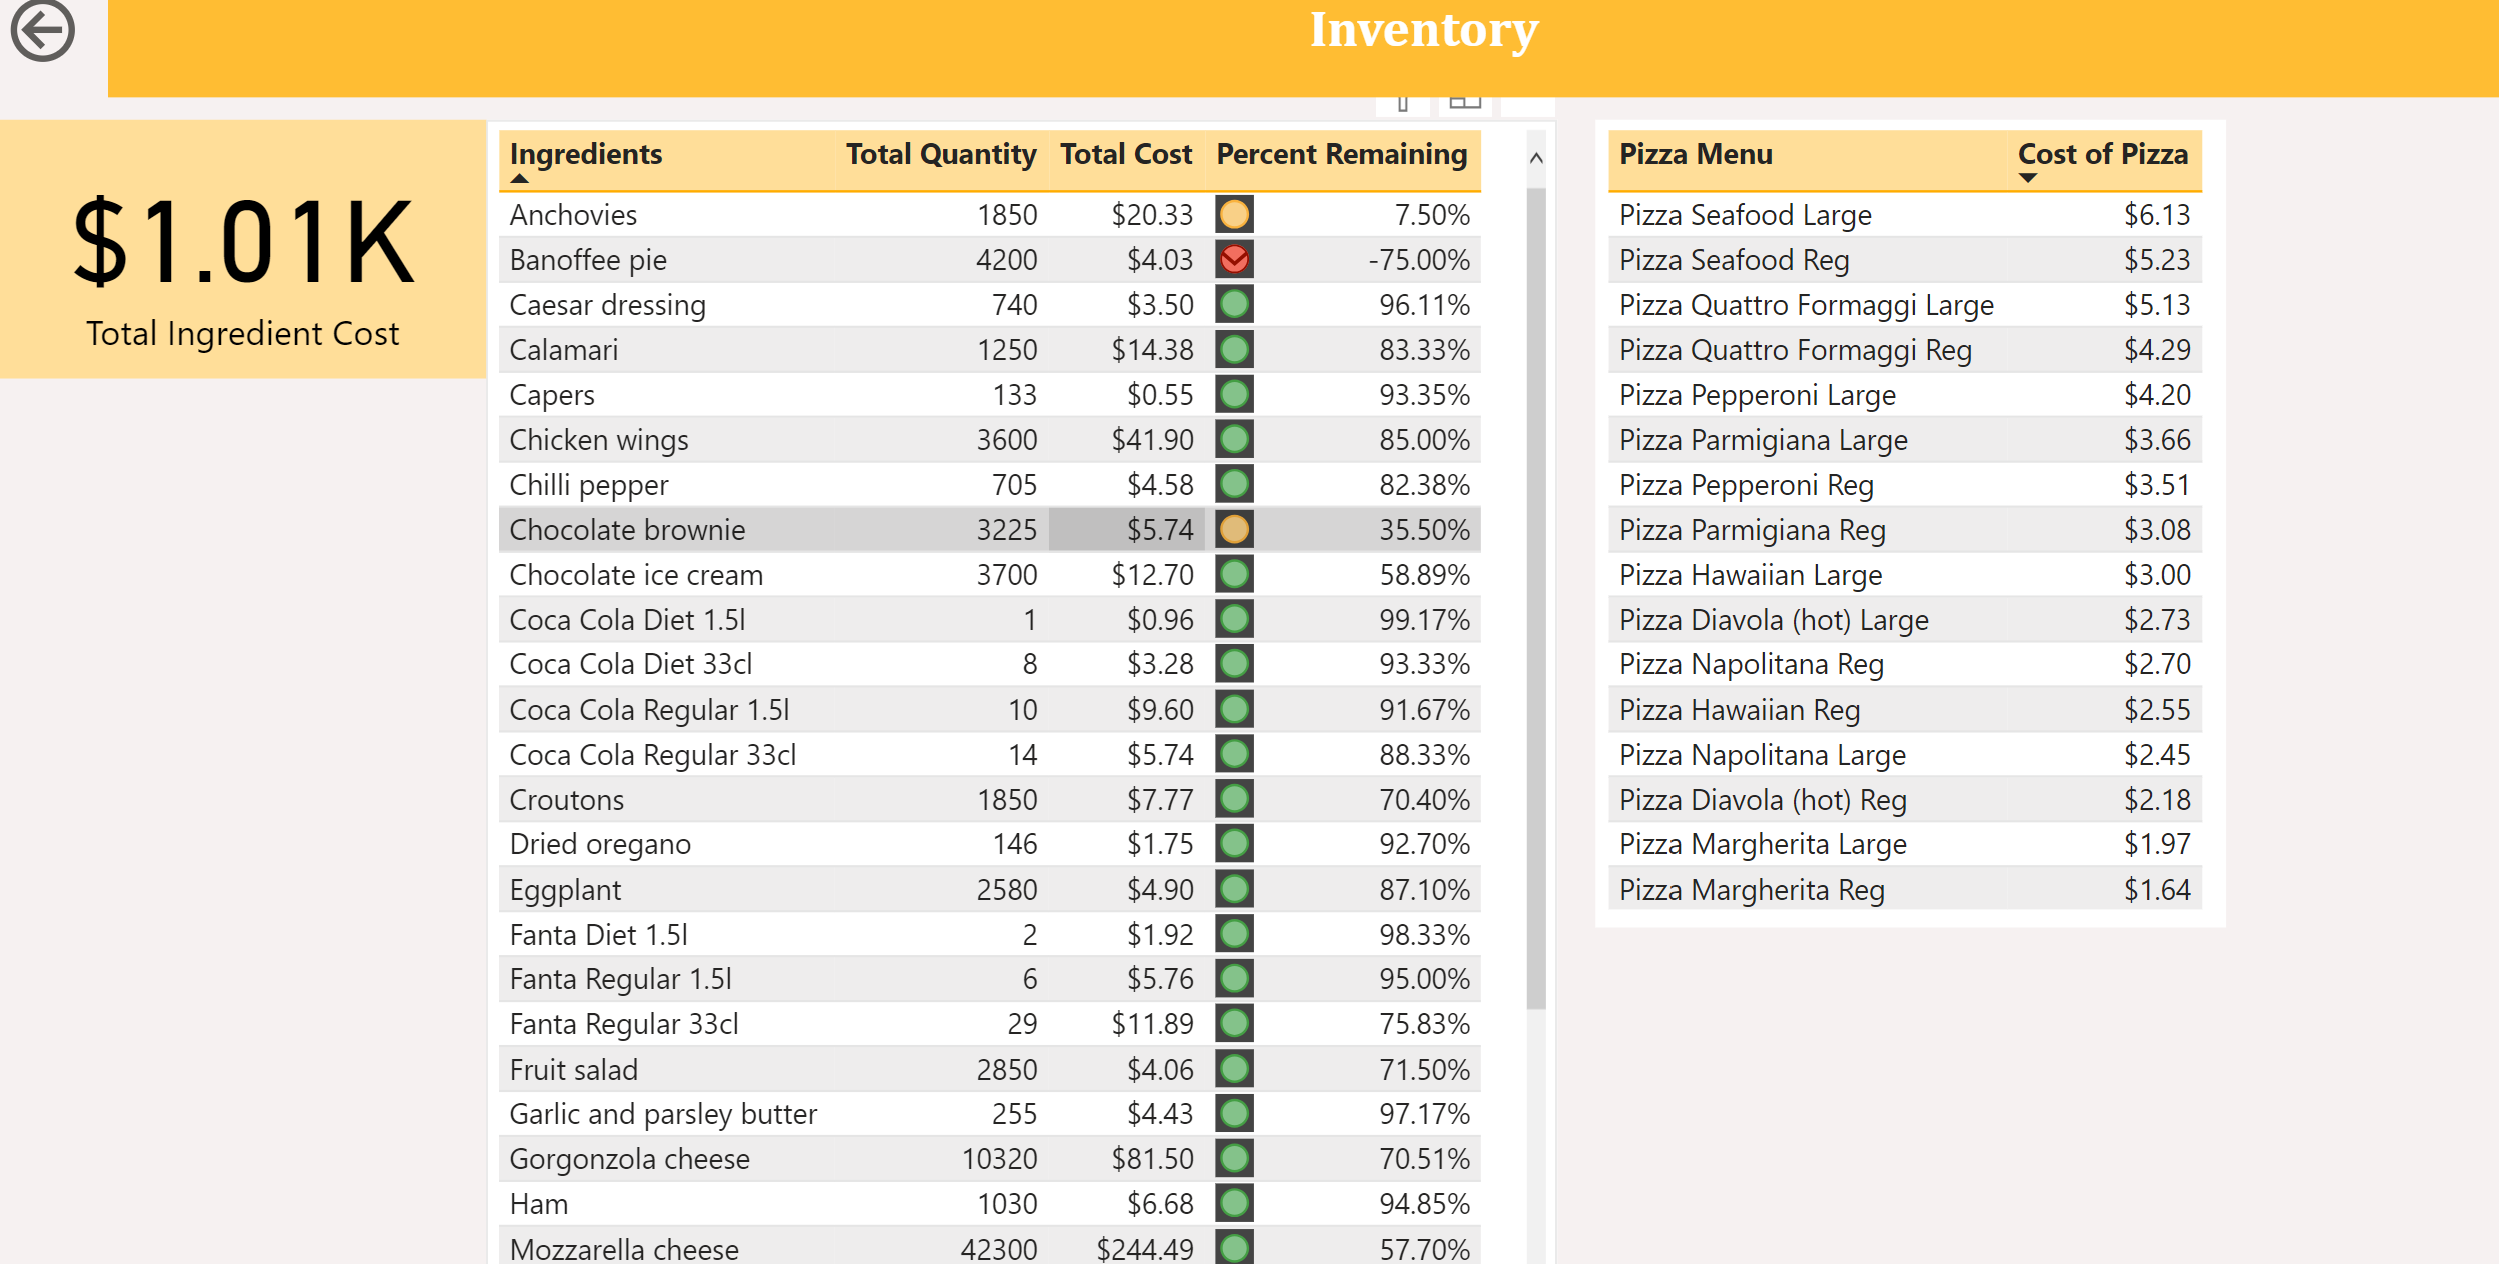

The page's visual inventory and layout, read from the dashboard file:
{"tool":"powerbi","page":{"name":"Inventory","canvas":[1280,720],"ordinal":2},"visuals":[{"type":"tableEx","fields":{"Values":["stock1 (2).item_name","stock1 (2).Cost of Pizza"]},"box":[745.2,62,294.3,377.3],"z":0},{"type":"tableEx","fields":{"Values":["stock1 (2).ing_name","Sum(stock1 (2).ordered_weight)","Sum(stock1 (2).ingredient_cost)","stock2.Percent Remaining"]},"box":[227,62,500.3,658],"z":1000},{"type":"card","fields":{"Values":["Sum(stock1 (2).ingredient_cost)"]},"box":[0,62,227,120.9],"z":2000},{"type":"actionButton","box":[0,0,100,40],"z":4001},{"type":"textbox","box":[50.5,0,1229.8,51.5],"z":4003}]}

Visuals, with their boxes on the page's 1280x720 design canvas (x1, y1, x2, y2). These are canvas units, not pixel positions in the 2499x1264 screenshot, which may show the page scaled, cropped or inside an application window:
tableEx - stock1 (2).item_name x stock1 (2).Cost of Pizza: (left=745, top=62, right=1040, bottom=439)
tableEx - stock1 (2).ing_name x Sum(stock1 (2).ordered_weight): (left=227, top=62, right=727, bottom=720)
card - Sum(stock1 (2).ingredient_cost): (left=0, top=62, right=227, bottom=183)
actionButton: (left=0, top=0, right=100, bottom=40)
textbox: (left=50, top=0, right=1280, bottom=52)
